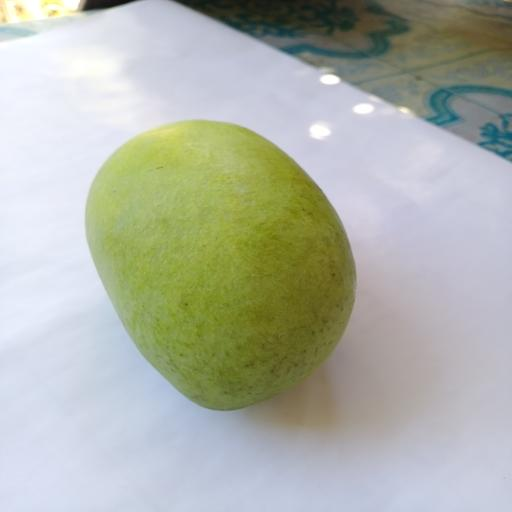mango-unripe: (67, 93, 370, 427)
